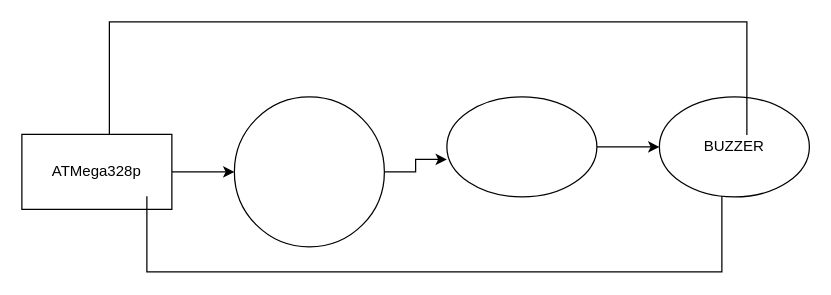
The diagram is 831 pixels wide and 295 high, and some of its shapes have lost their labels. Each missing label, with the box of its shape:
DOOR SENSOR(SWITCH): (233, 96, 384, 247)
LED: (446, 96, 597, 197)
